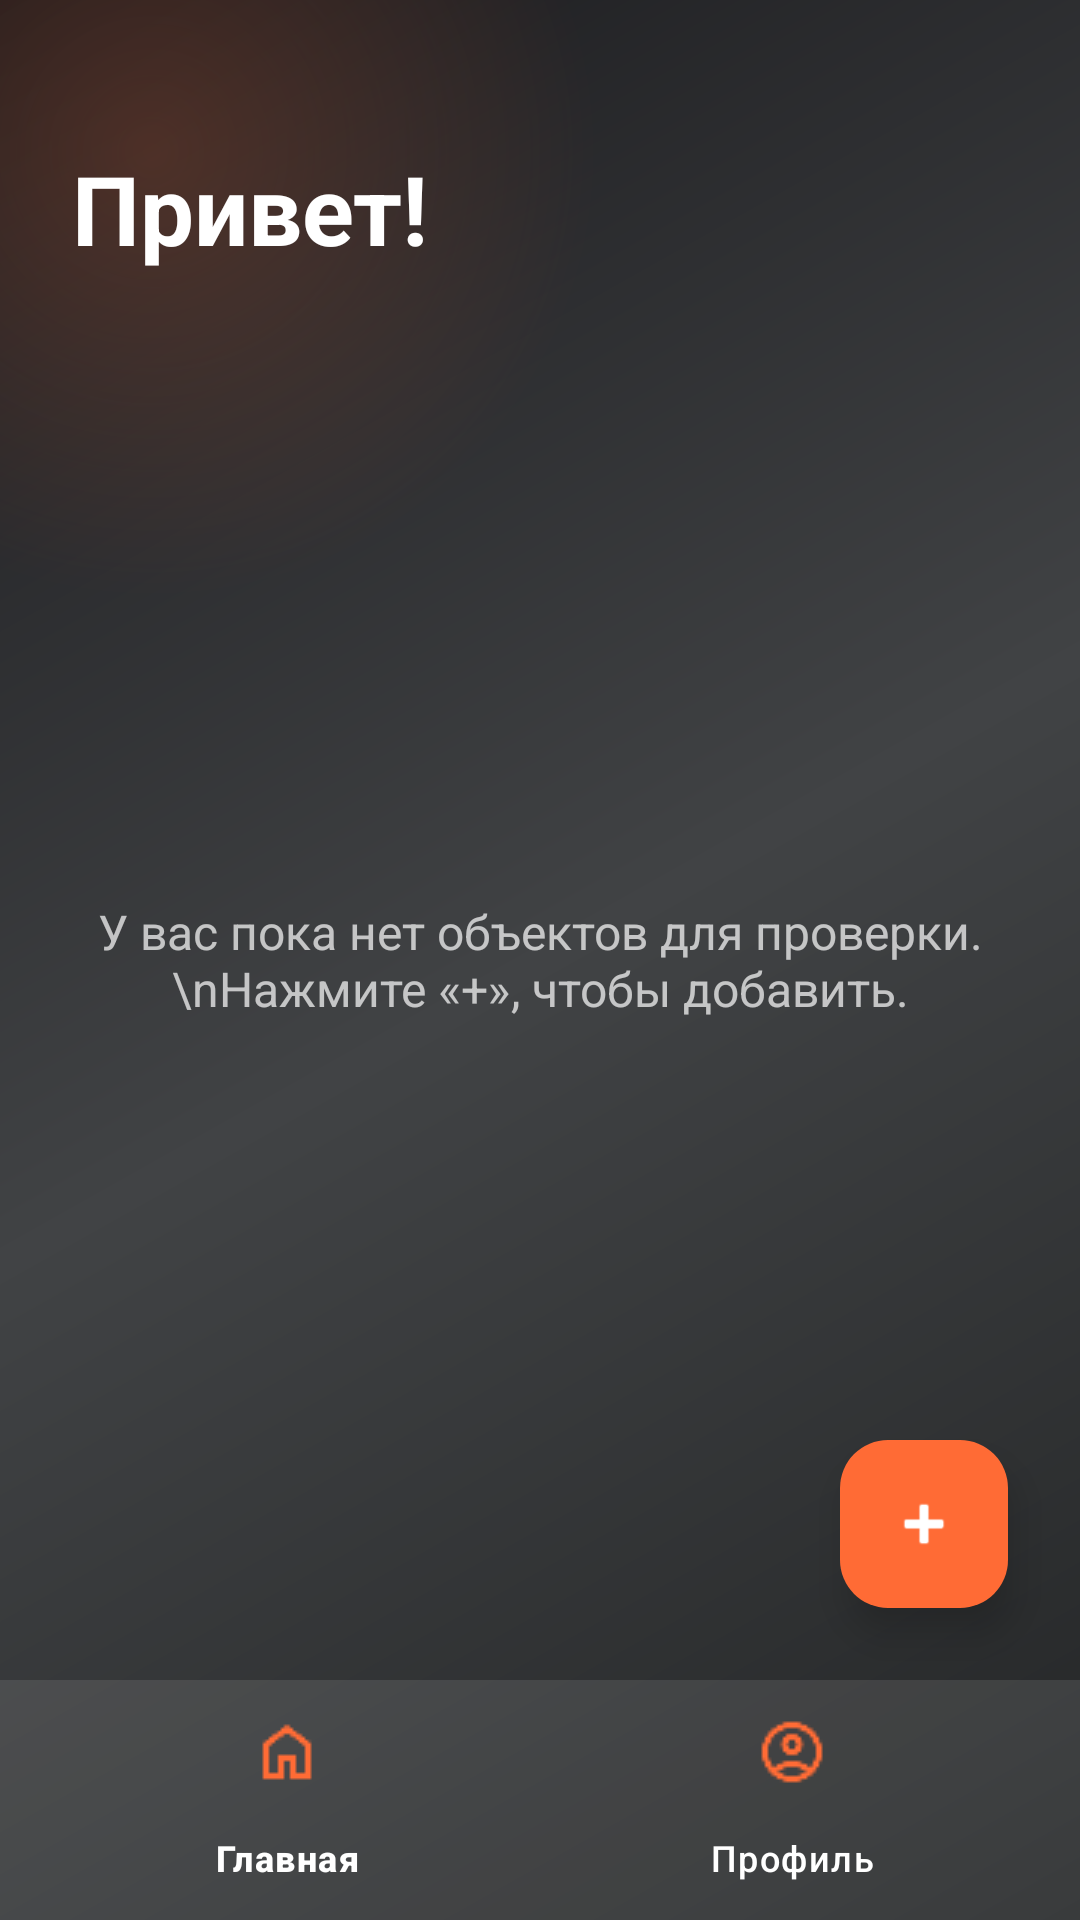

Named icons in this screenshot (1080 x 1920) and their bounding boxes, Rect(x1, y1, x2, y2):
add: Rect(840, 1440, 1008, 1608)
